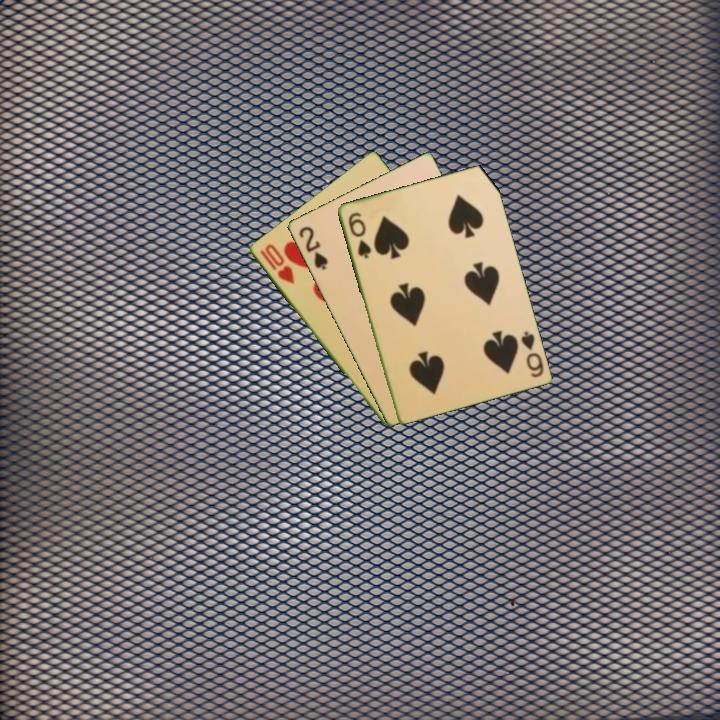10h: (256, 240, 297, 287)
2s: (295, 222, 330, 273)
6s: (344, 208, 374, 261), (517, 327, 546, 380)
